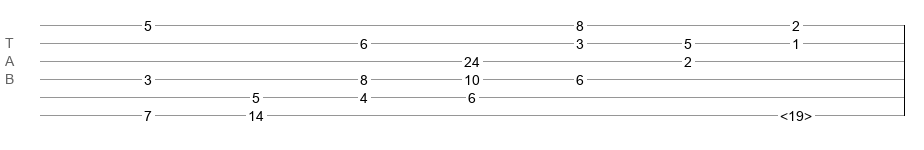1: (792, 36, 800, 46)
10: (464, 72, 480, 82)
14: (248, 108, 264, 118)
2: (684, 54, 692, 64), (792, 18, 800, 28)
24: (464, 54, 480, 64)
3: (144, 72, 152, 82), (576, 36, 584, 46)
4: (360, 90, 368, 100)
5: (144, 18, 152, 28), (252, 90, 260, 100), (684, 36, 692, 46)
6: (360, 36, 368, 46), (468, 90, 476, 100), (576, 72, 584, 82)
7: (144, 108, 152, 118)
8: (360, 72, 368, 82), (576, 18, 584, 28)
harmonic: (780, 108, 812, 118)
